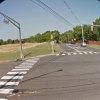Crosswalk: (24, 51, 99, 66)
